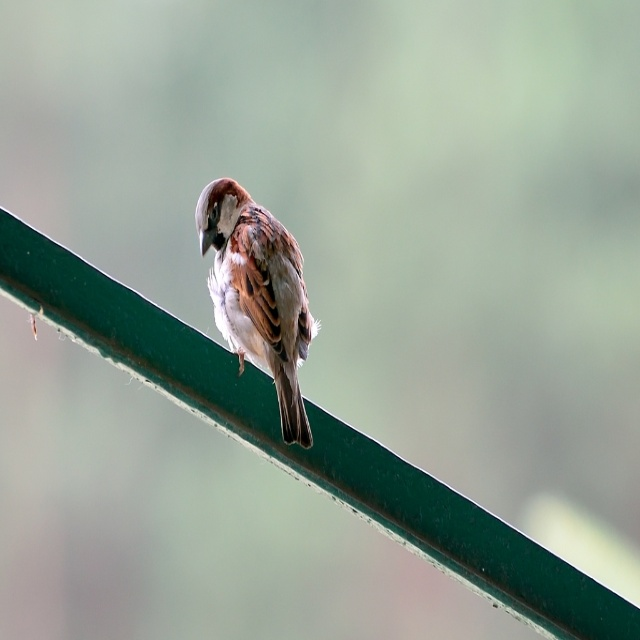Sparrow: (192, 176, 318, 449)
